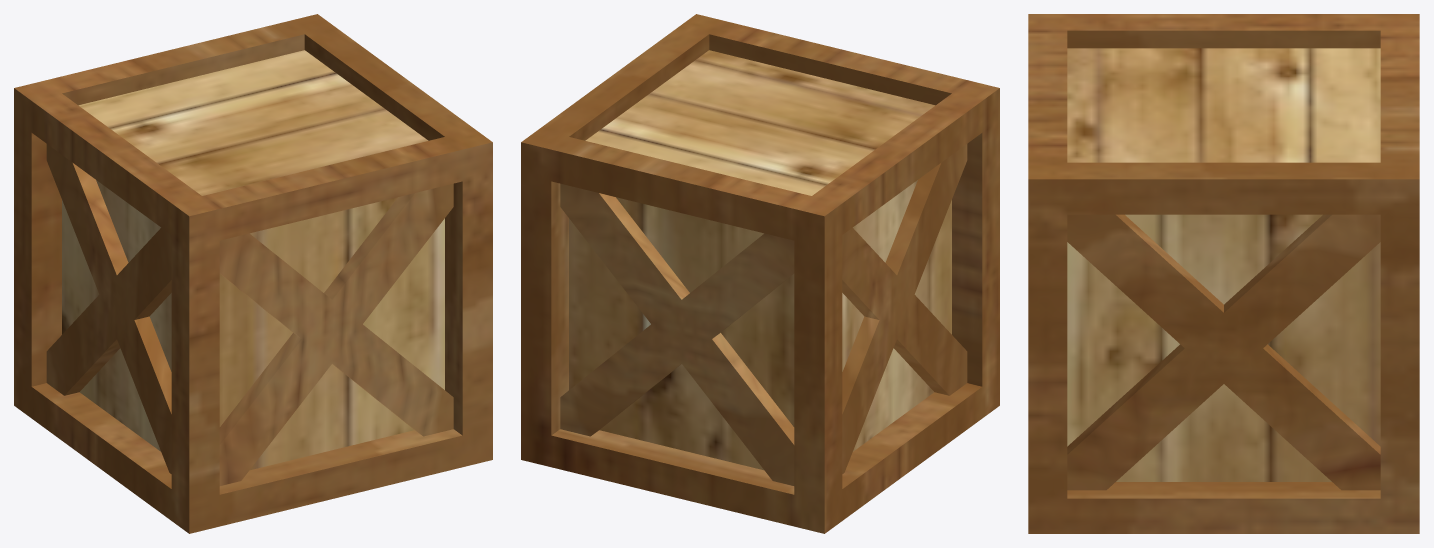
Rendered from wooden_crate.fbx.
3 views of the same model, side by side, from view 1: azimuth 30°, elevation 25°; view 2: azimuth 150°, elevation 25°; view 3: azimuth 270°, elevation 25° (orthographic). The views are drawn at different scales.
Visible parts, largest first — view 1: деревянный ящик; view 2: деревянный ящик; view 3: деревянный ящик.
Part boxes in pixels (bbox=[...]): деревянный ящик: bbox=[14, 14, 492, 533]; деревянный ящик: bbox=[521, 14, 999, 533]; деревянный ящик: bbox=[1028, 14, 1419, 533].
Bounding box in the file's own units: 20 × 20 × 20.
